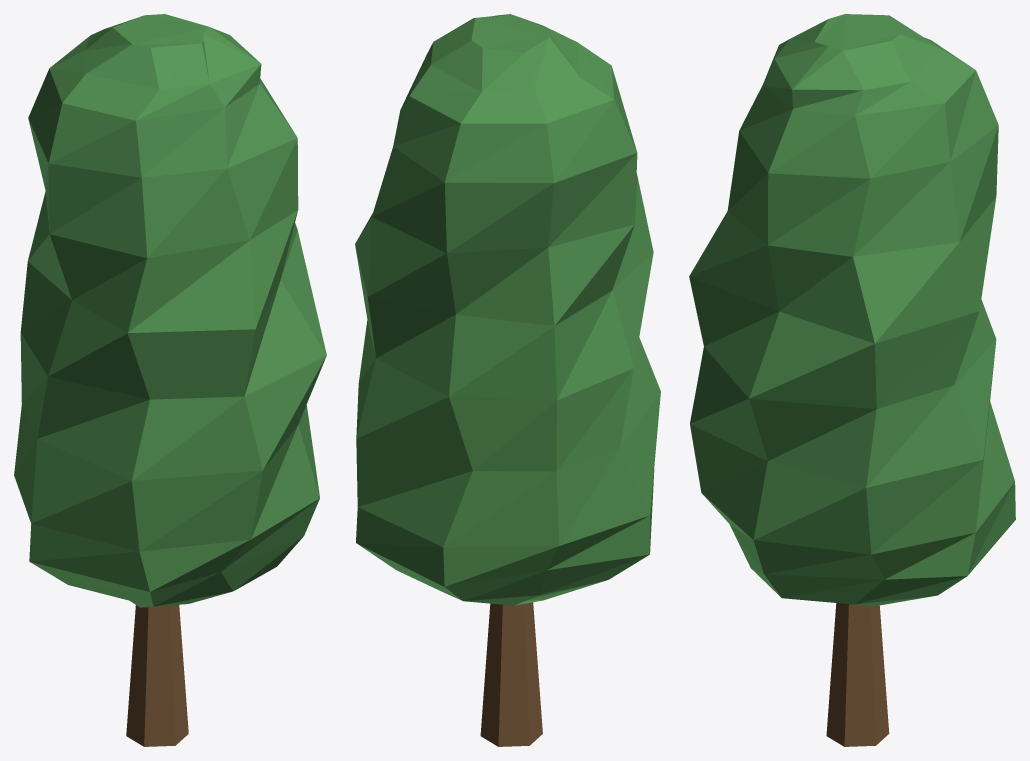
Rendered from tree3d-095.glb.
3 renders of one model, left to right at view 1: azimuth 30°, elevation 25°; view 2: azimuth 150°, elevation 25°; view 3: azimuth 270°, elevation 25°, orthographic.
Parts seen in each view (by area): view 1: tree3d-095; view 2: tree3d-095; view 3: tree3d-095.
Part boxes in pixels (bbox=[...]): tree3d-095: bbox=[14, 14, 326, 746]; tree3d-095: bbox=[355, 14, 660, 746]; tree3d-095: bbox=[689, 14, 1015, 746].
Bounding box in the file's own units: 0.4208 × 1 × 0.4195.
